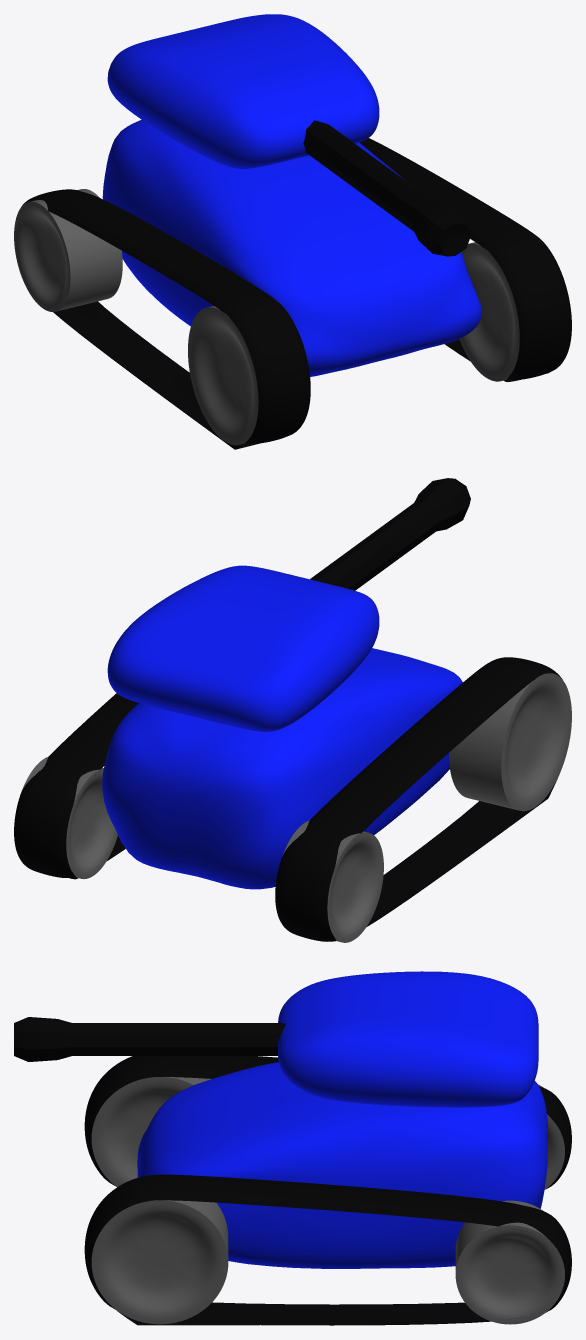
File: SmoothTank.fbx
3 renders of one model, top to bottom at view 1: azimuth 30°, elevation 25°; view 2: azimuth 150°, elevation 25°; view 3: azimuth 270°, elevation 25°, orthographic. The views are drawn at different scales.
Visible parts, largest first — view 1: Chassis, Chain, Head, Front, Back, Cannon; view 2: Chassis, Head, Chain, Front, Back, Cannon; view 3: Chassis, Head, Chain, Front, Back, Cannon.
Part boxes in pixels (bbox=[...]): Chassis: bbox=[102, 119, 481, 376]; Chain: bbox=[21, 138, 571, 449]; Head: bbox=[107, 14, 379, 168]; Front: bbox=[188, 235, 540, 445]; Back: bbox=[14, 189, 122, 311]; Cannon: bbox=[303, 120, 470, 256]; Chassis: bbox=[102, 648, 462, 889]; Head: bbox=[107, 565, 379, 731]; Chain: bbox=[14, 657, 562, 941]; Front: bbox=[449, 673, 571, 811]; Back: bbox=[21, 757, 383, 942]; Cannon: bbox=[310, 478, 470, 590]; Chassis: bbox=[137, 1062, 547, 1268]; Head: bbox=[278, 971, 538, 1107]; Chain: bbox=[84, 1056, 571, 1325]; Front: bbox=[91, 1077, 228, 1324]; Back: bbox=[455, 1084, 564, 1324]; Cannon: bbox=[14, 1017, 285, 1061].
Bounding box in the file's own units: 240 × 194 × 382.
